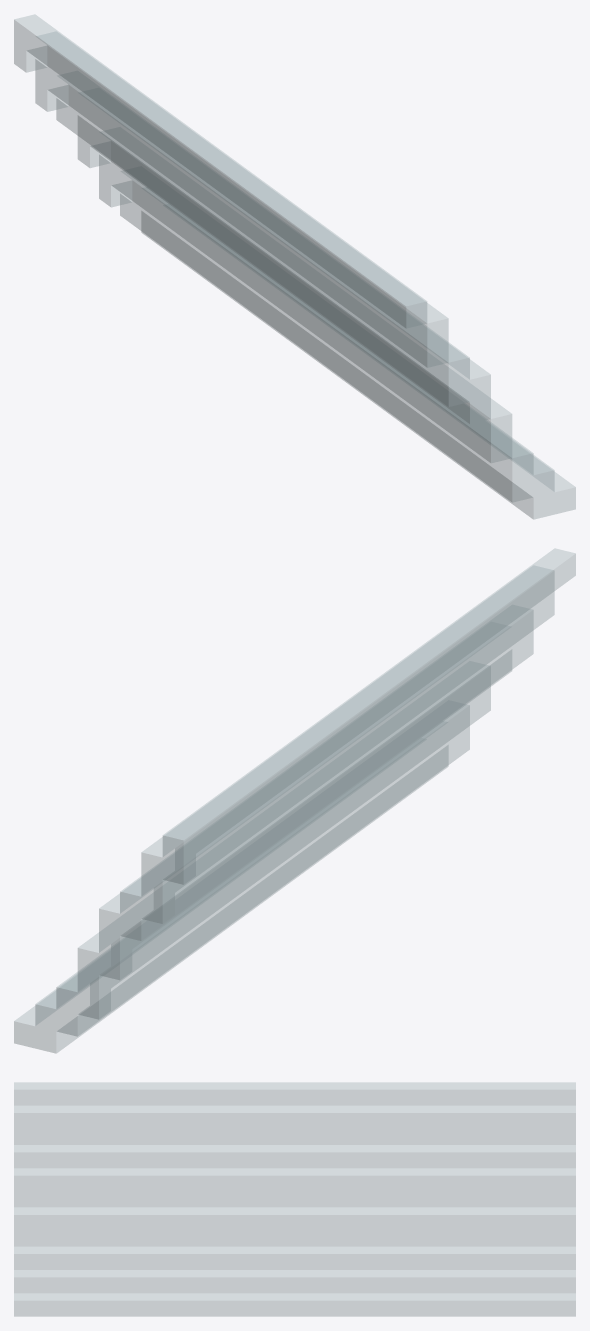
Rendered from classic_small_car_windscreen.glb.
3 renders of one model, top to bottom at view 1: azimuth 30°, elevation 25°; view 2: azimuth 150°, elevation 25°; view 3: azimuth 270°, elevation 25°, orthographic. The views are drawn at different scales.
Parts seen in each view (by area): view 1: body:compound; view 2: body:compound; view 3: body:compound.
Boxes of the visible parts, x1=… form: body:compound: x1=14, y1=14, x2=575, y2=519; body:compound: x1=14, y1=548, x2=575, y2=1053; body:compound: x1=14, y1=1082, x2=575, y2=1316.
Bounding box in the file's own units: 0.25 × 0.3438 × 1.
